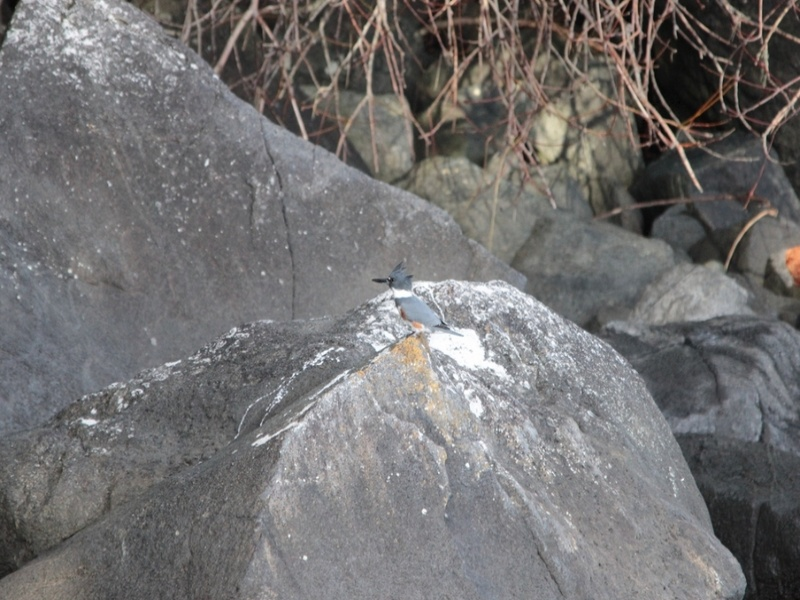kingfisher: (369, 262, 465, 350)
